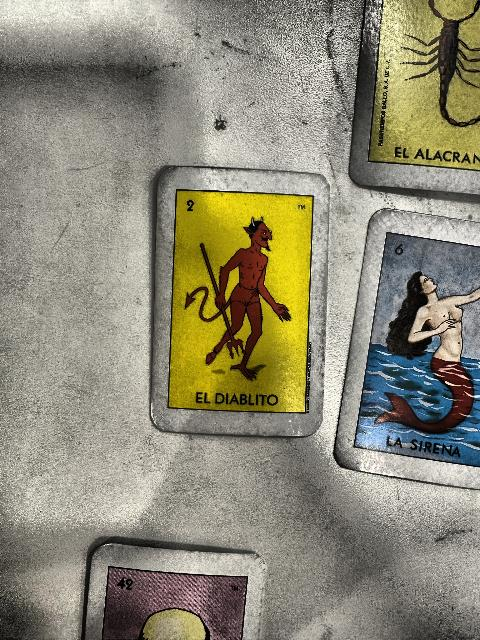El Diablito: (168, 192, 314, 413)
